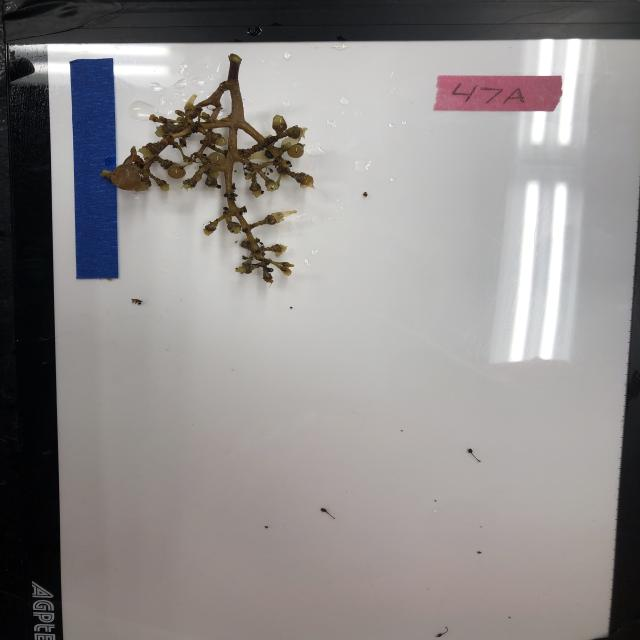index: (435, 74, 565, 113)
measure_label: (66, 55, 122, 283)
rachis_cluster: (99, 51, 320, 288)
